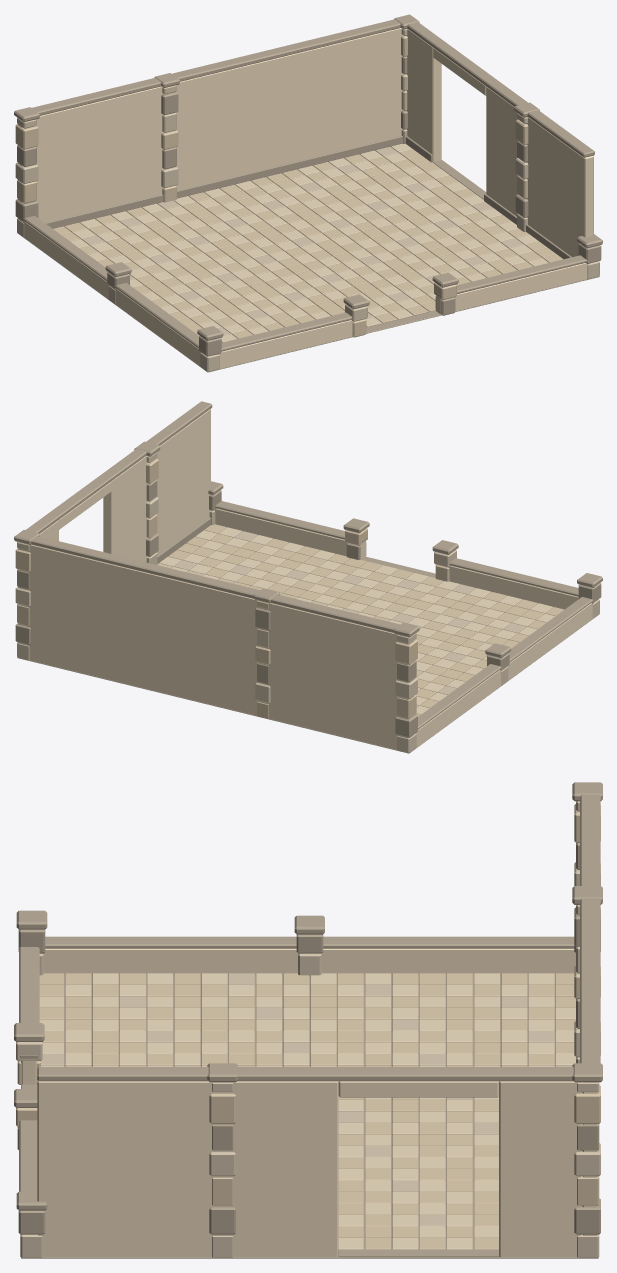
File: lobby_shell.glb
3 views of the same model, one above another, from view 1: azimuth 30°, elevation 25°; view 2: azimuth 150°, elevation 25°; view 3: azimuth 270°, elevation 25° (orthographic). The views are drawn at different scales.
Parts seen in each view (by area): view 1: lobby_shell; view 2: lobby_shell; view 3: lobby_shell.
Part boxes in pixels (box(x1,y1,x2,y2)): lobby_shell: box(14, 14, 602, 372); lobby_shell: box(14, 401, 602, 753); lobby_shell: box(14, 782, 602, 1258).
Bounding box in the file's own units: 12.76 × 3.76 × 10.81.
